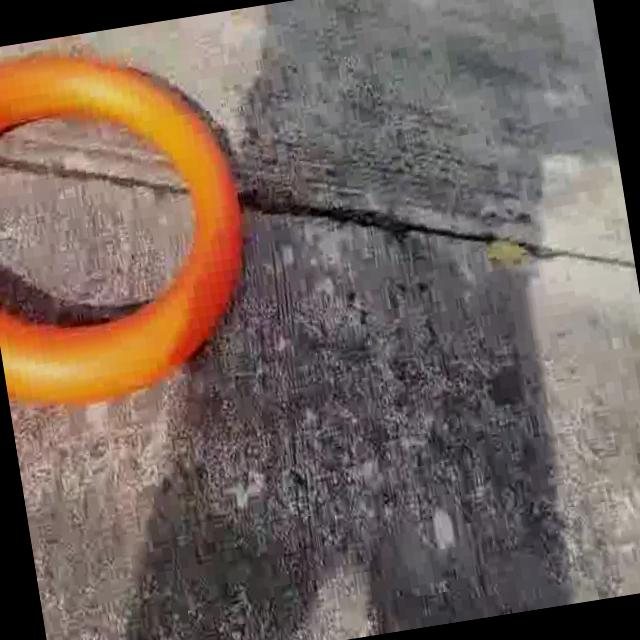note: (0, 22, 274, 437)
